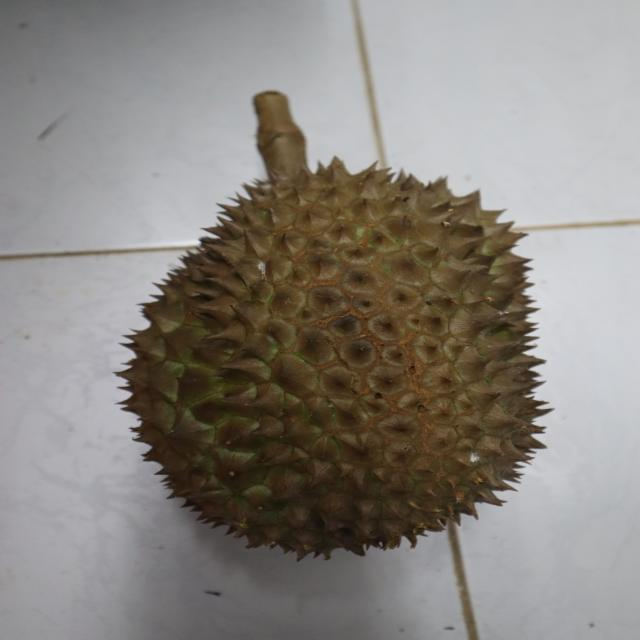mature: (120, 163, 555, 558)
